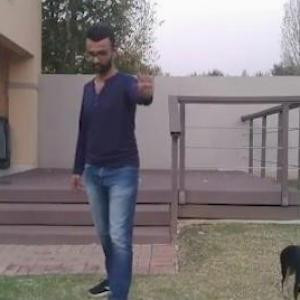takeoff-hand: (130, 49, 161, 102)
